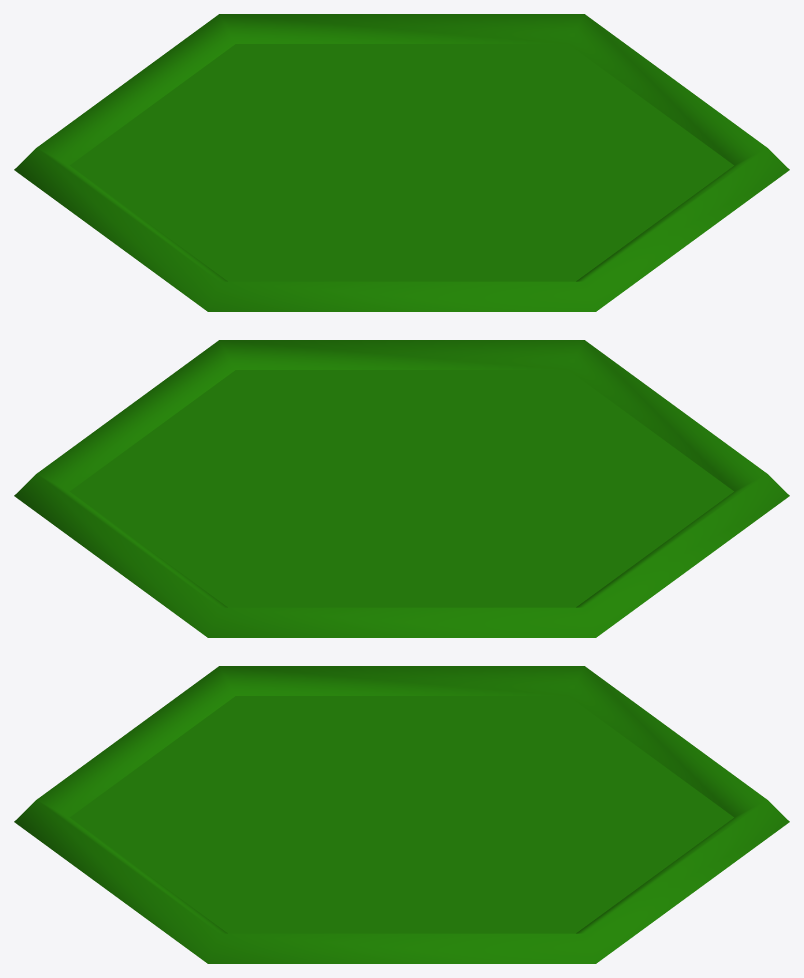
The model's file is pastry-plain.glb.
The picture shows the model from 3 angles, top to bottom: view 1: azimuth 30°, elevation 25°; view 2: azimuth 150°, elevation 25°; view 3: azimuth 270°, elevation 25°; orthographic projection.
Visible parts, largest first — view 1: HexagonTile.012; view 2: HexagonTile.012; view 3: HexagonTile.012.
Part boxes in pixels (<box>): HexagonTile.012: <box>14,14,789,311</box>; HexagonTile.012: <box>14,340,789,637</box>; HexagonTile.012: <box>14,666,789,963</box>.
Size of the model in its own units: 1.73 by 0.0631 by 2.
